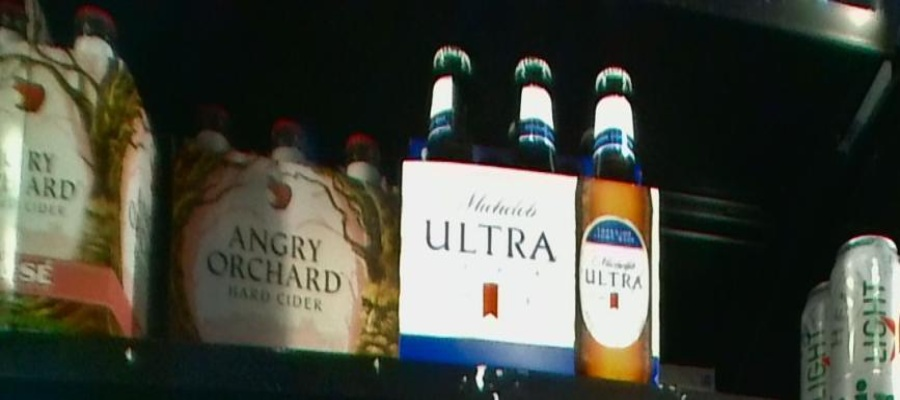bottle: (399, 41, 659, 384), (170, 106, 398, 353)
